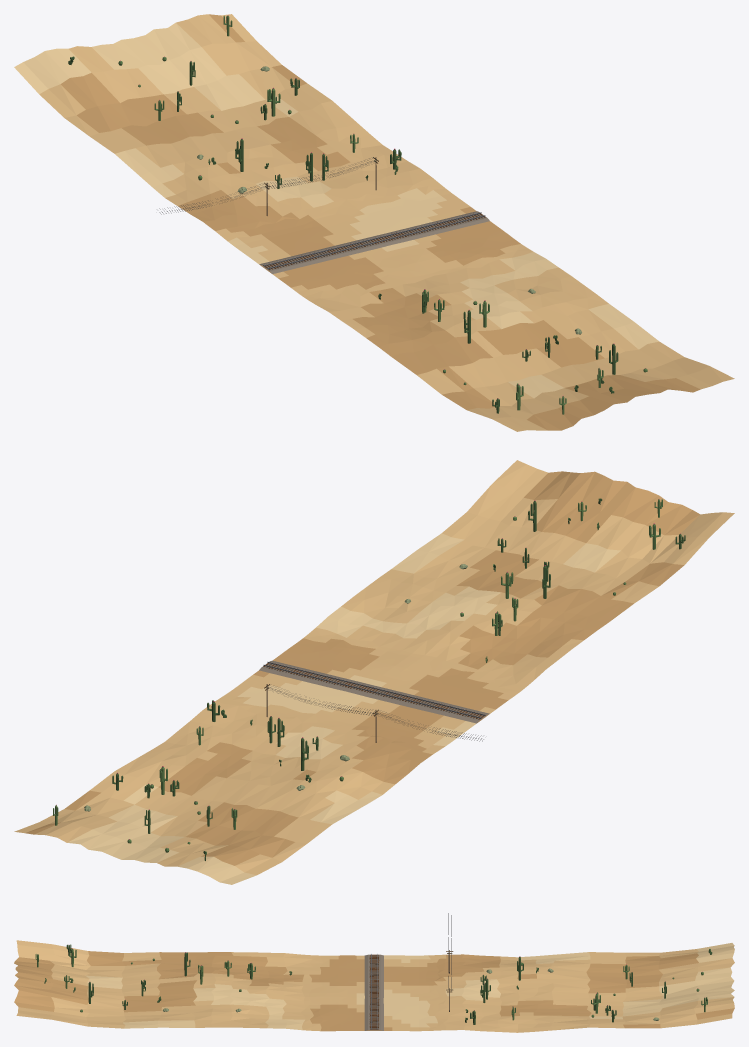
File: chunk_cactus.glb
3 renders of one model, top to bottom at view 1: azimuth 30°, elevation 25°; view 2: azimuth 150°, elevation 25°; view 3: azimuth 270°, elevation 25°, orthographic. The views are drawn at different scales.
Parts seen in each view (by area): view 1: FG_Chunk_Cactus_A_Track; view 2: FG_Chunk_Cactus_A_Track; view 3: FG_Chunk_Cactus_A_Track.
Boxes of the visible parts, <box> form: FG_Chunk_Cactus_A_Track: <box>14,14,734,431</box>; FG_Chunk_Cactus_A_Track: <box>14,460,734,884</box>; FG_Chunk_Cactus_A_Track: <box>14,913,734,1032</box>.
Bounding box in the file's own units: 62.49 × 9.12 × 201.
